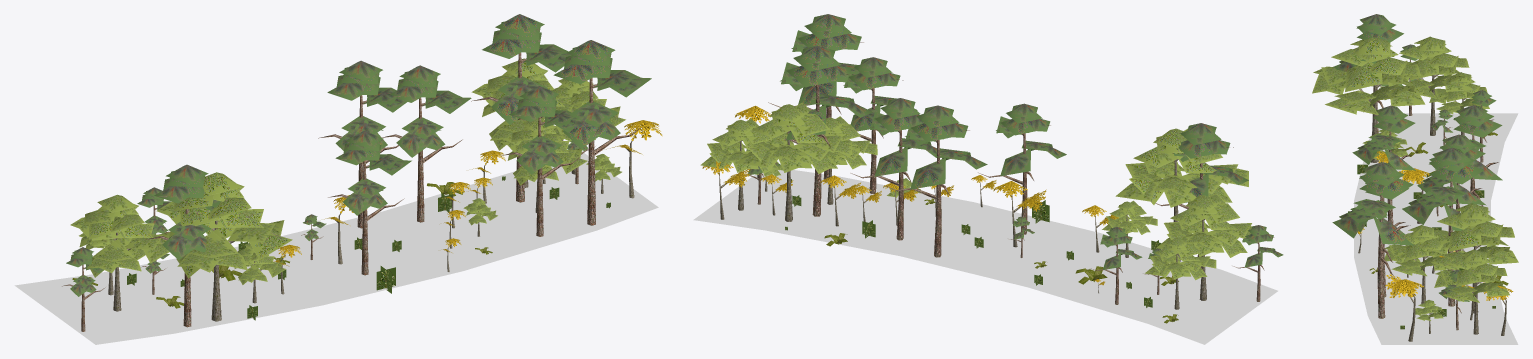
File: forest.fbx
The picture shows the model from 3 angles, left to right: view 1: azimuth 30°, elevation 25°; view 2: azimuth 150°, elevation 25°; view 3: azimuth 270°, elevation 25°; orthographic projection. The views are drawn at different scales.
Parts seen in each view (by area): view 1: 平面.095, 平面.095|tree_med|Dupli|23, 平面.095|tree_tall|Dupli|46, 平面.095|tree_med|Dupli|40, 平面.095|tree_tall|Dupli|10, 平面.095|tree_tall|Dupli|9, 平面.095|tree_tall|Dupli|14, 平面.095|tree_tall|Dupli|, 平面.095|tree_tall|Dupli|4, 平面.095|tree_tall|Dupli|35, 平面.095|tree_med|Dupli|17, 平面.095|tree_med|Dupli|12 (+7 smaller); view 2: 平面.095, 平面.095|tree_med|Dupli|17, 平面.095|tree_med|Dupli|23, 平面.095|tree_med|Dupli|40, 平面.095|tree_tall|Dupli|4, 平面.095|tree_tall|Dupli|10, 平面.095|tree_tall|Dupli|9, 平面.095|tree_tall|Dupli|46, 平面.095|tree_tall|Dupli|, 平面.095|tree_tall|Dupli|14, 平面.095|tree_med|Dupli|41, 平面.095|tree_tall|Dupli|35 (+8 smaller); view 3: 平面.095, 平面.095|tree_med|Dupli|23, 平面.095|tree_tall|Dupli|46, 平面.095|tree_med|Dupli|17, 平面.095|tree_tall|Dupli|10, 平面.095|tree_med|Dupli|40, 平面.095|tree_med|Dupli|41, 平面.095|tree_med|Dupli|12, 平面.095|tree_tall|Dupli|, 平面.095|tree_tall|Dupli|4, 平面.095|tree_tall|Dupli|9, 平面.095|tree_tall|Dupli|35 (+11 smaller).
Boxes of the visible parts, box(x1,y1,x2,y2) form: 平面.095: box(14, 151, 658, 344); 平面.095|tree_med|Dupli|23: box(156, 172, 292, 321); 平面.095|tree_tall|Dupli|46: box(544, 40, 651, 225); 平面.095|tree_med|Dupli|40: box(70, 194, 169, 311); 平面.095|tree_tall|Dupli|10: box(471, 14, 571, 202); 平面.095|tree_tall|Dupli|9: box(382, 65, 471, 222); 平面.095|tree_tall|Dupli|14: box(501, 86, 580, 236); 平面.095|tree_tall|Dupli|: box(328, 131, 411, 275); 平面.095|tree_tall|Dupli|4: box(318, 60, 407, 228); 平面.095|tree_tall|Dupli|35: box(146, 164, 239, 327); 平面.095|tree_med|Dupli|17: box(471, 58, 581, 187); 平面.095|tree_med|Dupli|12: box(500, 118, 587, 212); 平面.095: box(693, 170, 1277, 344); 平面.095|tree_med|Dupli|17: box(736, 102, 852, 221); 平面.095|tree_med|Dupli|23: box(1115, 128, 1248, 261); 平面.095|tree_med|Dupli|40: box(1156, 193, 1252, 300); 平面.095|tree_tall|Dupli|4: box(884, 105, 987, 257); 平面.095|tree_tall|Dupli|10: box(780, 46, 872, 216); 平面.095|tree_tall|Dupli|9: box(850, 98, 936, 240); 平面.095|tree_tall|Dupli|46: box(768, 14, 863, 182); 平面.095|tree_tall|Dupli|: box(978, 103, 1066, 234); 平面.095|tree_tall|Dupli|14: box(843, 57, 917, 193); 平面.095|tree_med|Dupli|41: box(700, 118, 778, 210); 平面.095|tree_tall|Dupli|35: box(1155, 123, 1248, 268); 平面.095: box(1354, 113, 1518, 344); 平面.095|tree_med|Dupli|23: box(1312, 37, 1425, 162); 平面.095|tree_tall|Dupli|46: box(1332, 162, 1414, 318); 平面.095|tree_med|Dupli|17: box(1425, 203, 1518, 313); 平面.095|tree_tall|Dupli|10: box(1402, 147, 1483, 306); 平面.095|tree_med|Dupli|40: box(1399, 36, 1472, 135); 平面.095|tree_med|Dupli|41: box(1434, 249, 1509, 334); 平面.095|tree_med|Dupli|12: box(1384, 225, 1450, 303); 平面.095|tree_tall|Dupli|: box(1352, 105, 1415, 224); 平面.095|tree_tall|Dupli|4: box(1429, 105, 1502, 206); 平面.095|tree_tall|Dupli|9: box(1417, 134, 1486, 250); 平面.095|tree_tall|Dupli|35: box(1333, 14, 1403, 133).
Bounding box in the file's own units: 7447 × 2250 × 2657.
